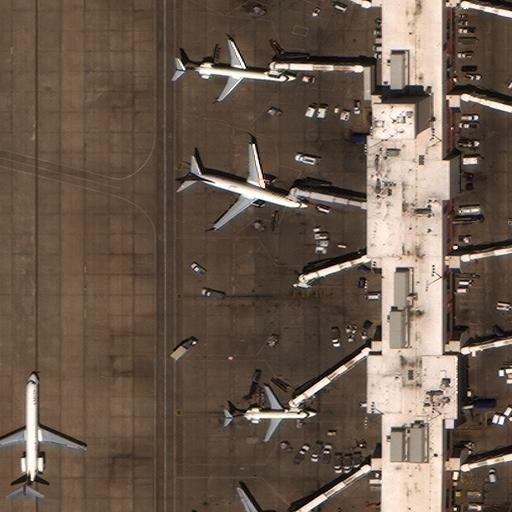Medium Civil Transport: (0, 370, 87, 499), (185, 143, 310, 231), (173, 40, 300, 101), (220, 385, 320, 441), (208, 487, 285, 512)
